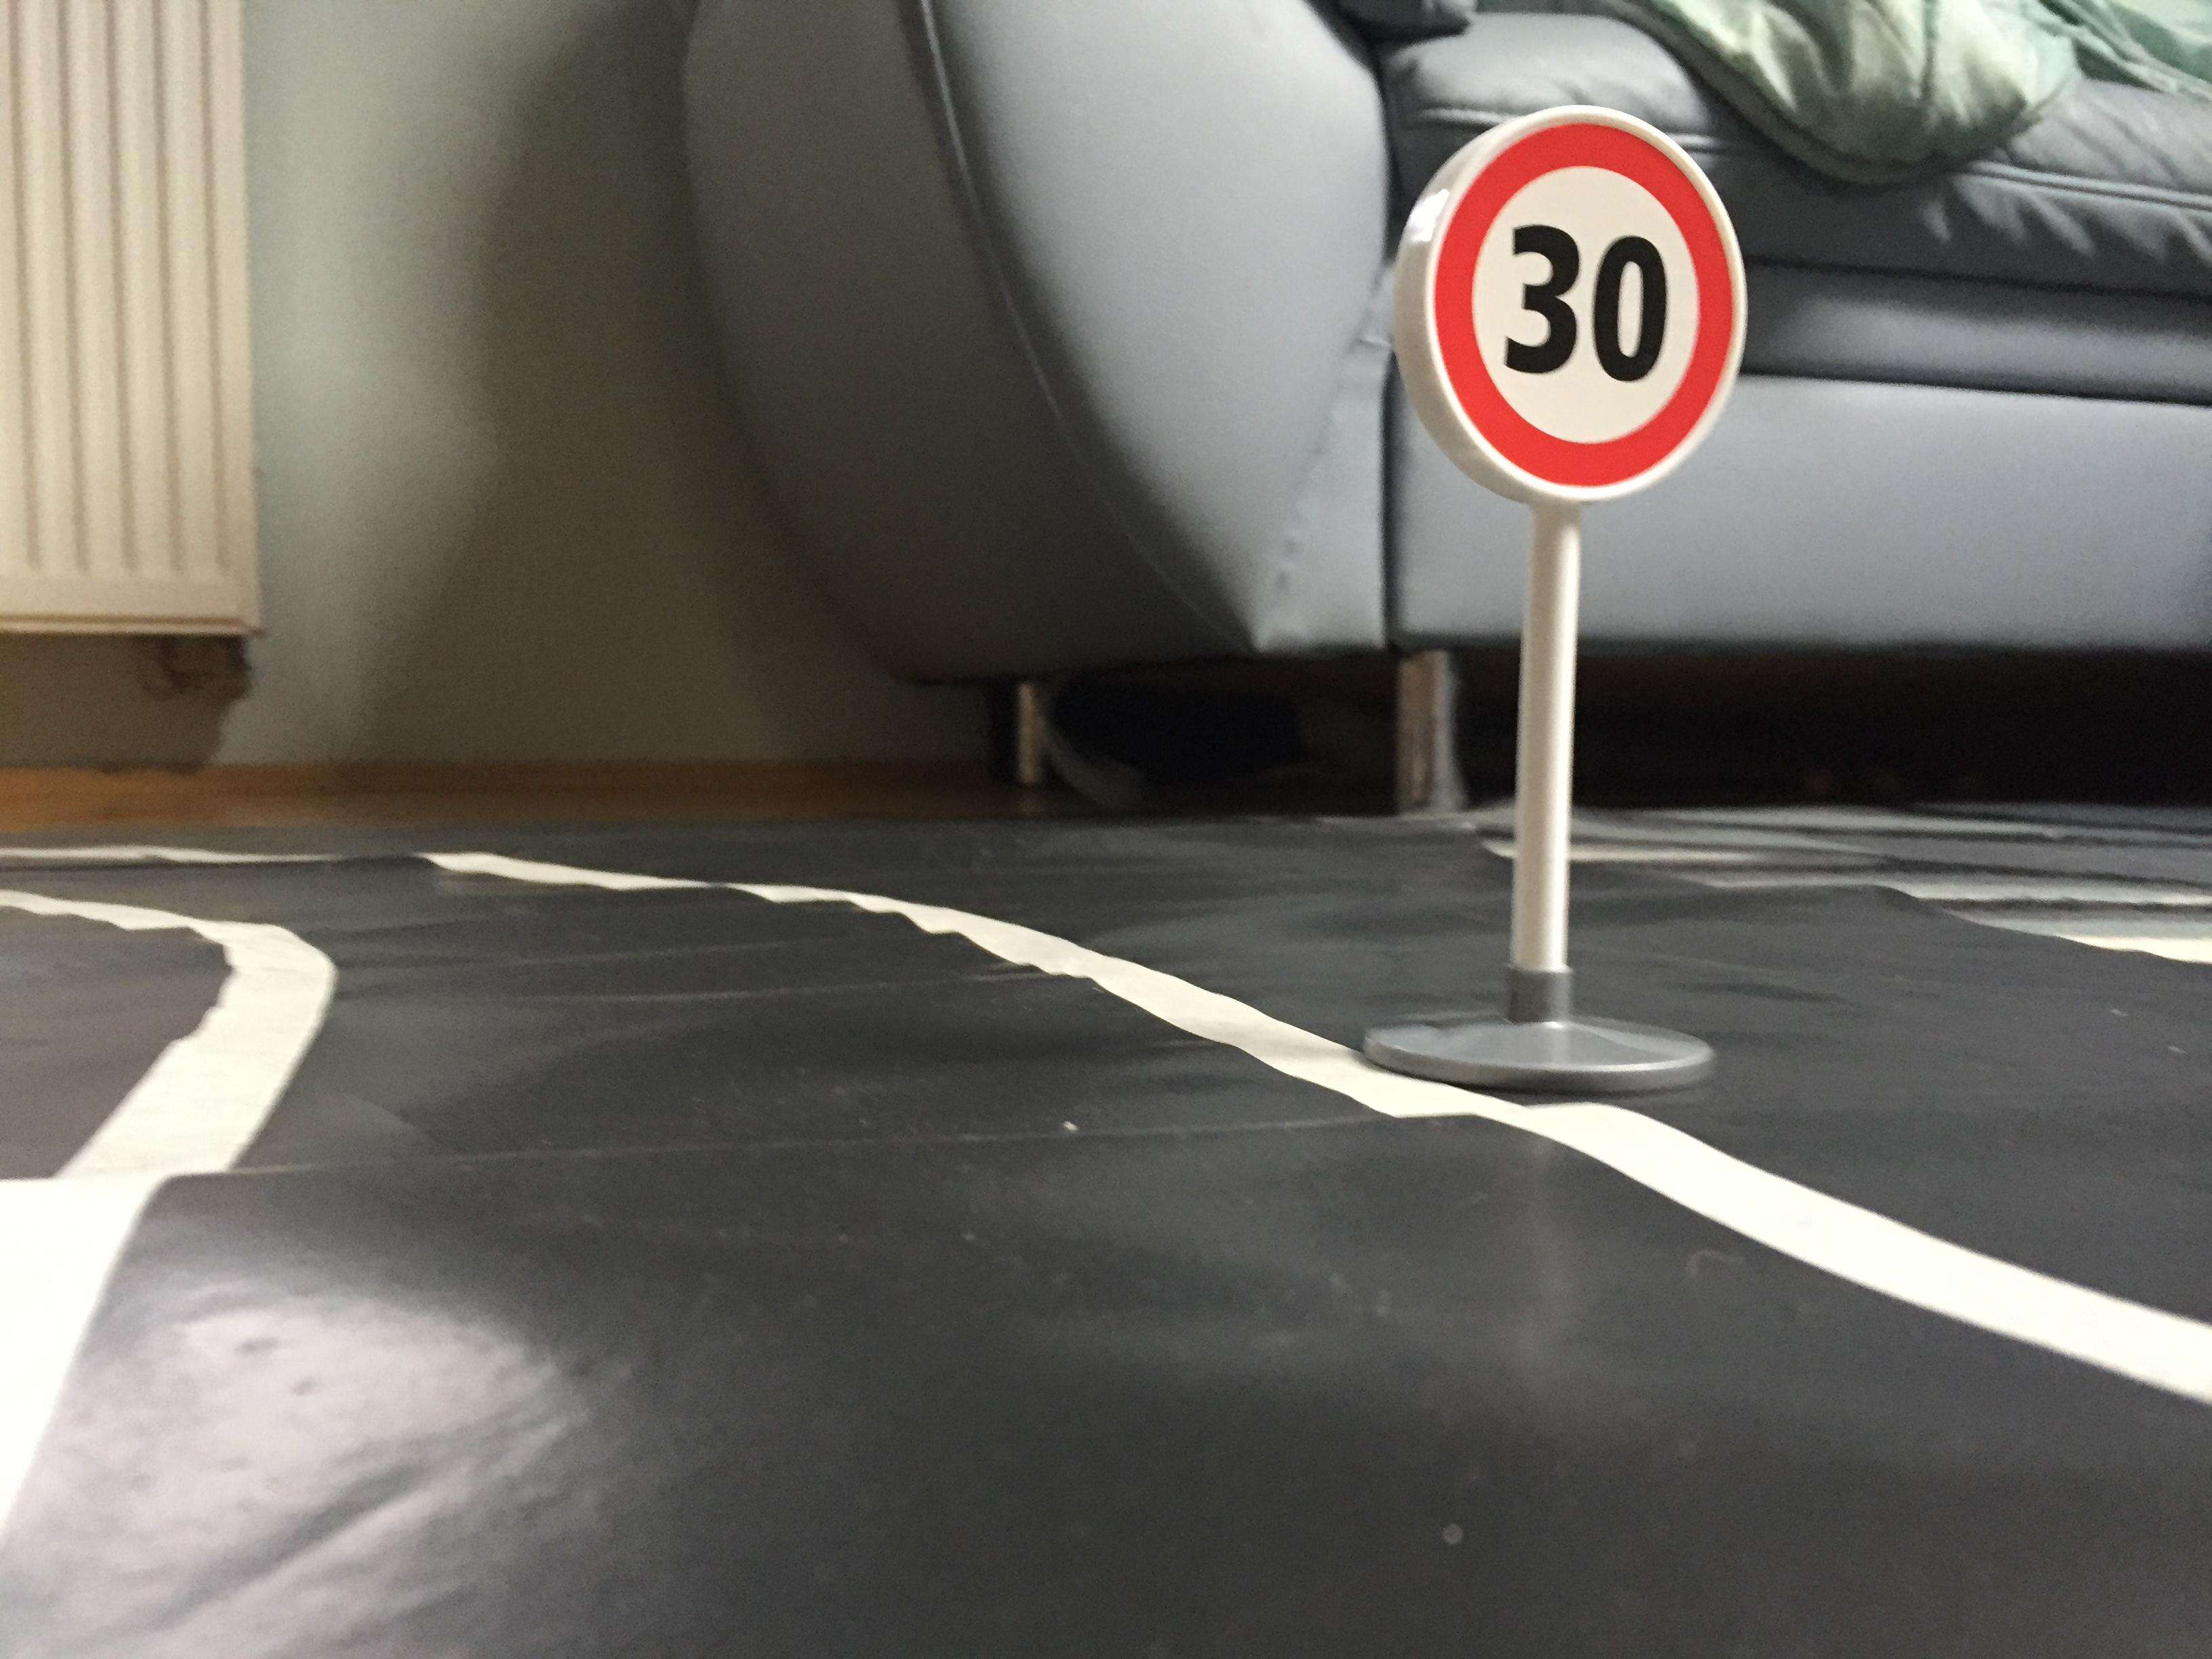speed: (1383, 98, 1764, 518)
